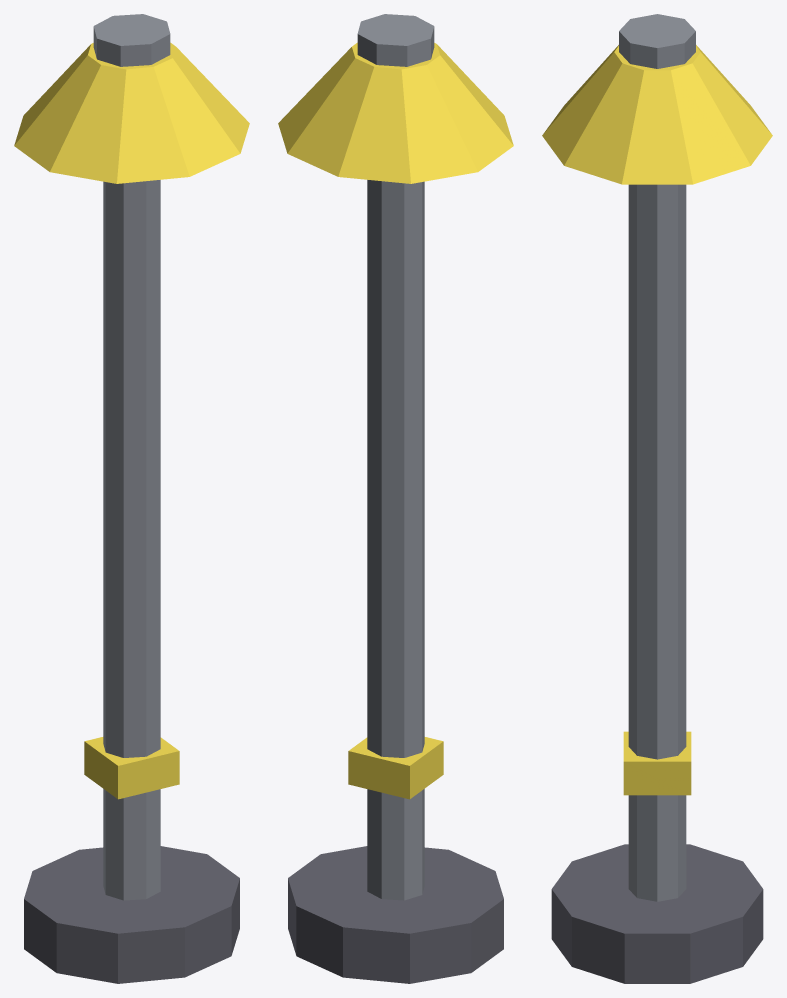
The model's file is lamp_post.glb.
3 views of the same model, side by side, from view 1: azimuth 30°, elevation 25°; view 2: azimuth 150°, elevation 25°; view 3: azimuth 270°, elevation 25° (orthographic).
Parts seen in each view (by area): view 1: lamp_post; view 2: lamp_post; view 3: lamp_post.
Part boxes in pixels (x1,y1,x2,y2): lamp_post: (14, 14, 249, 983); lamp_post: (278, 14, 513, 983); lamp_post: (542, 14, 772, 983).
Bounding box in the file's own units: 0.5 × 2.17 × 0.5.
